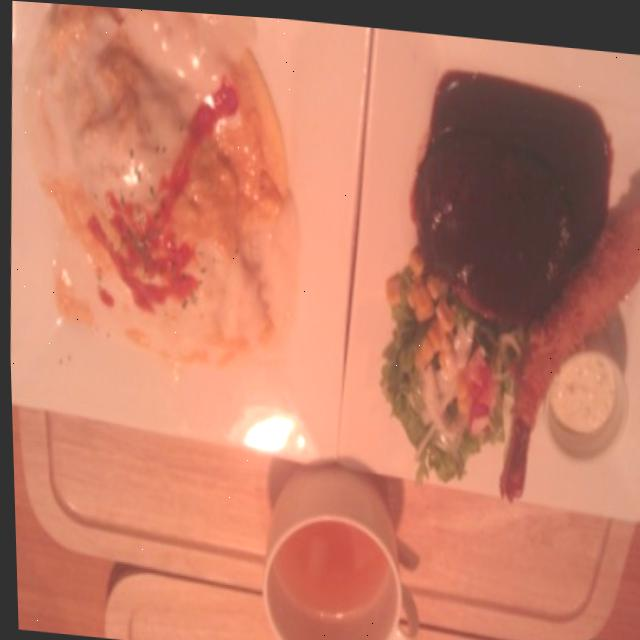汤锅炖物: (239, 453, 425, 640)
炸货点心: (481, 142, 640, 510)
熟制海鲜: (481, 142, 640, 510)
蔬菜料理: (358, 253, 530, 475)
